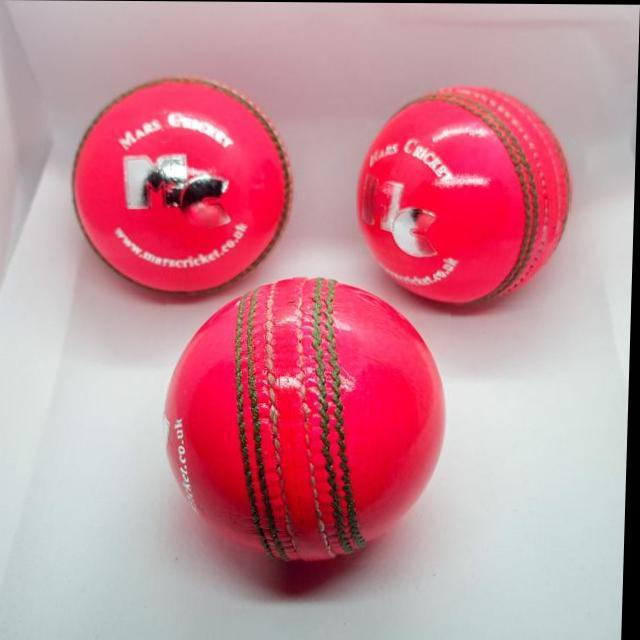cricket ball: (166, 276, 450, 564), (72, 75, 297, 295), (358, 85, 572, 304)
